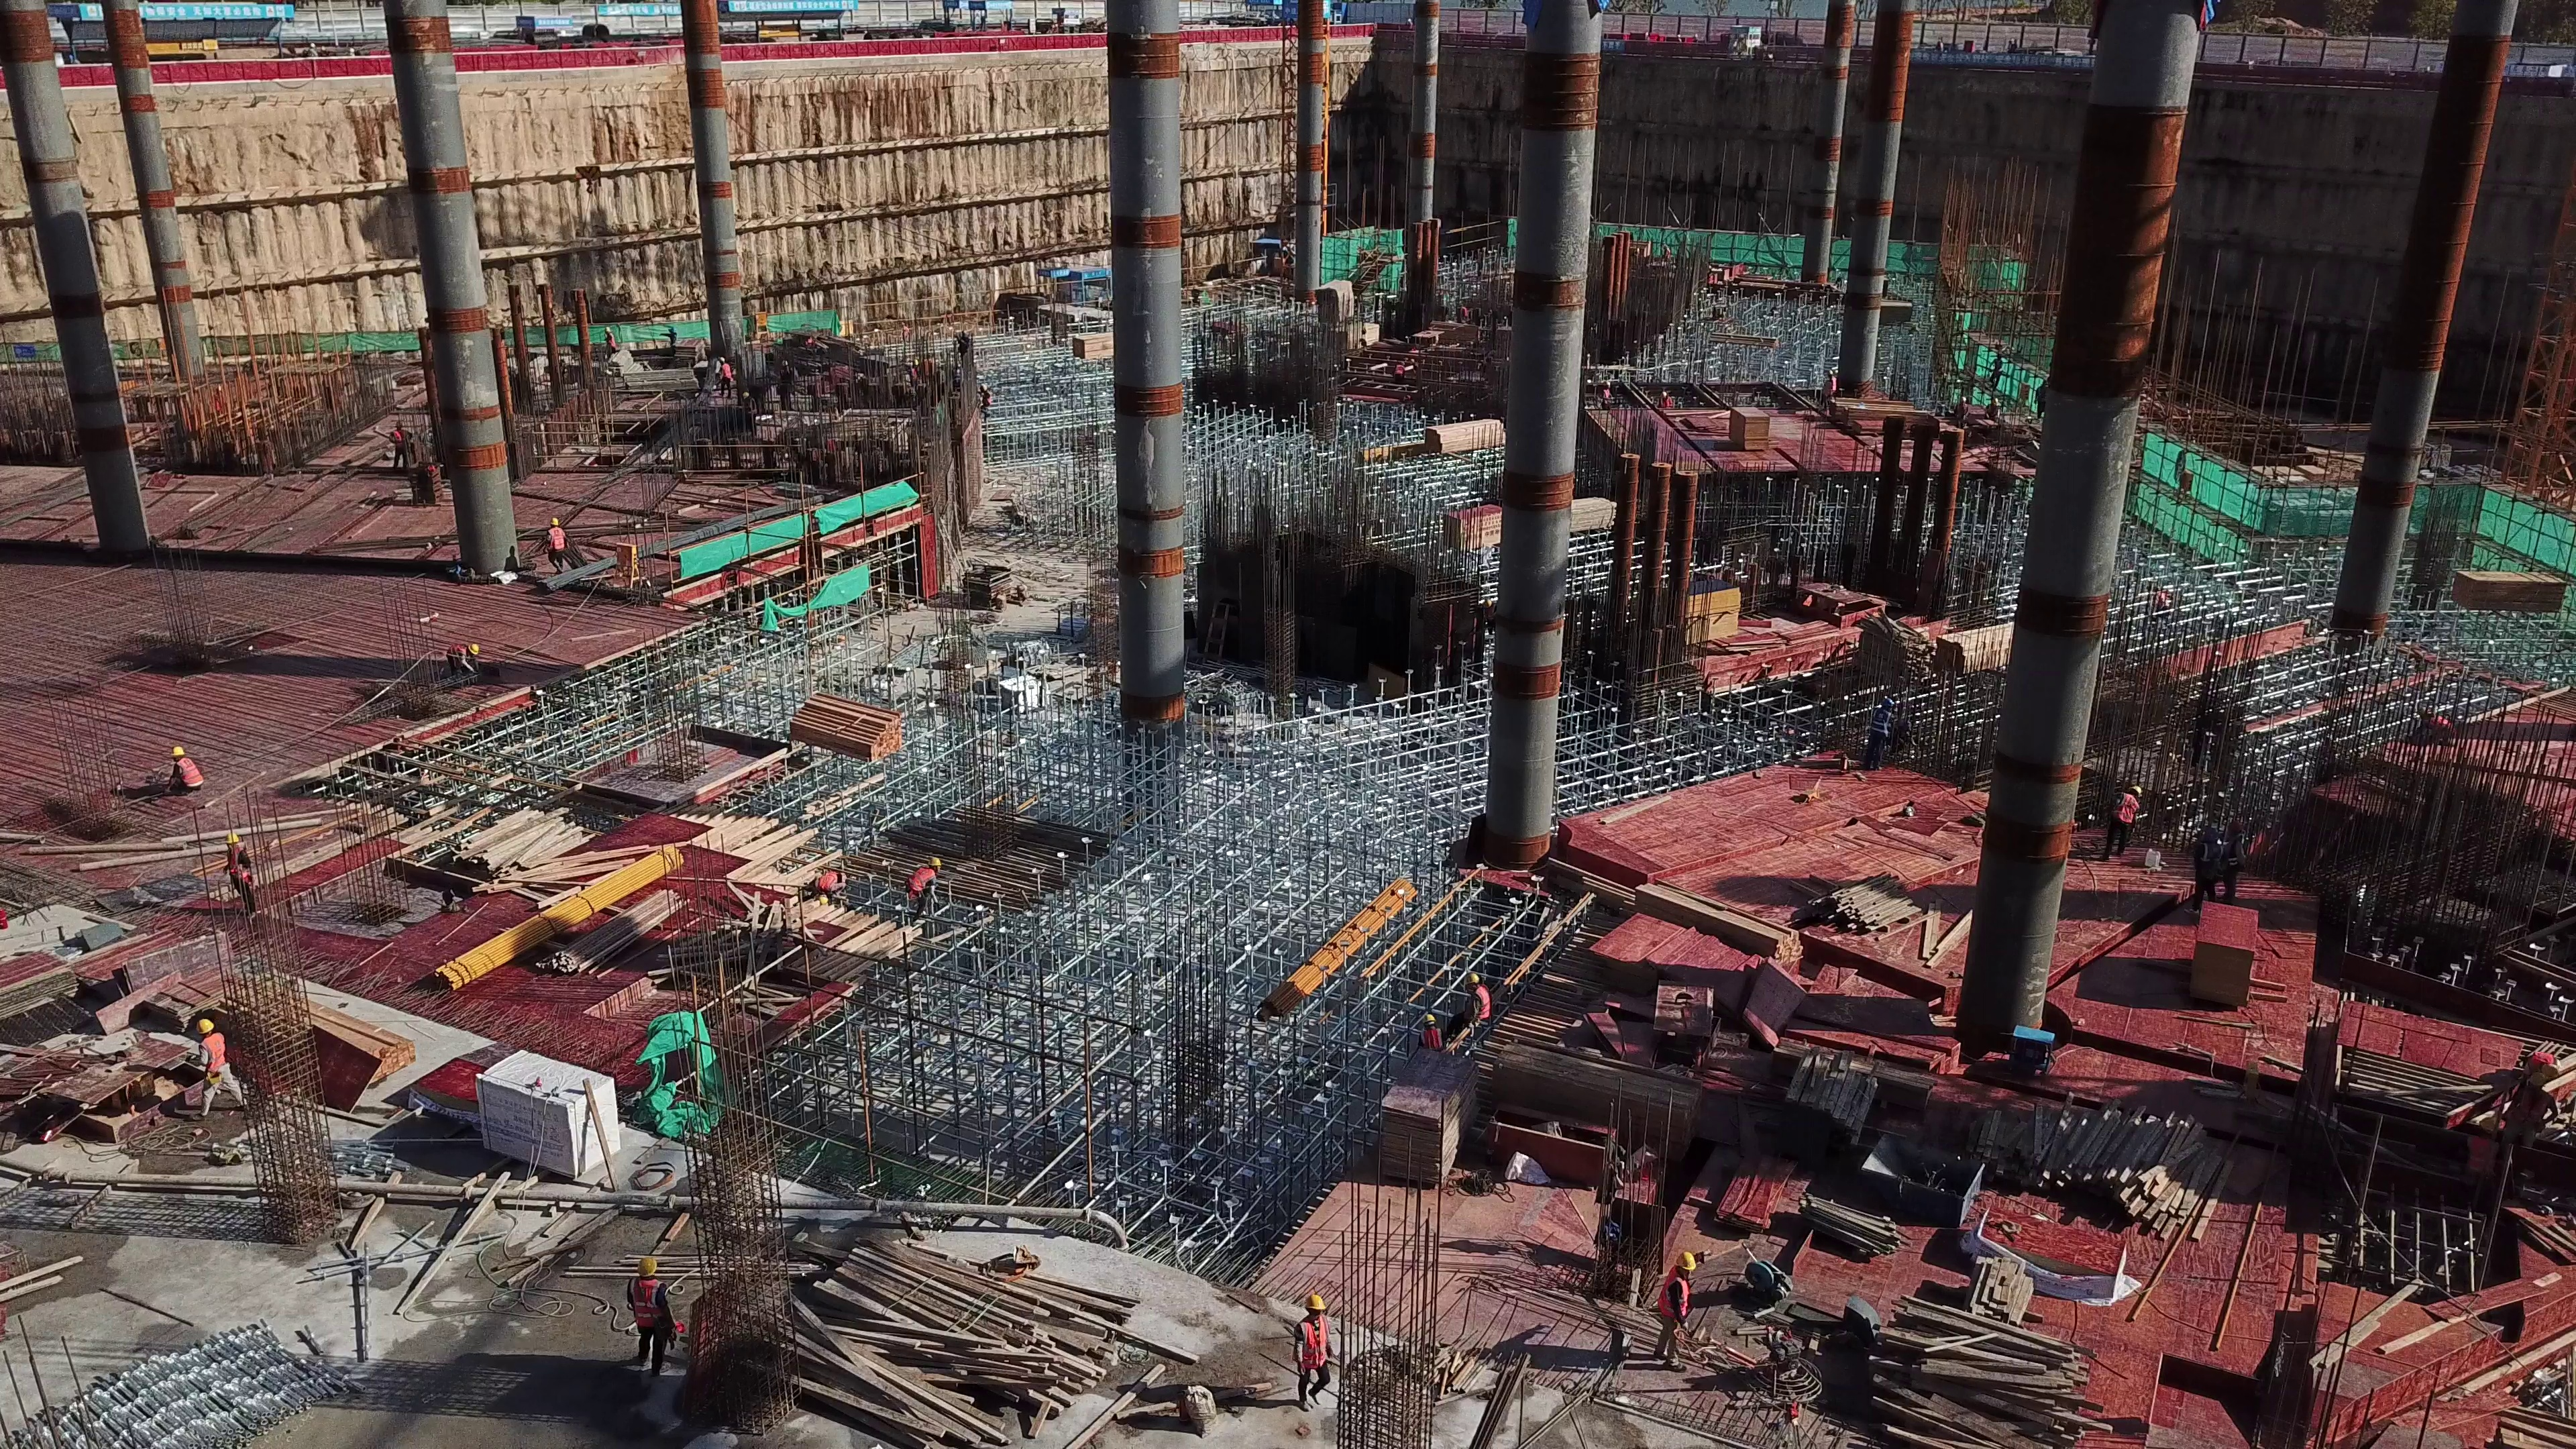board: (1509, 1026, 1699, 1145), (1604, 909, 1748, 1009), (1381, 1053, 1476, 1183), (103, 945, 230, 1030), (2192, 900, 2257, 1010), (1, 957, 91, 1004), (1441, 502, 1504, 551), (1724, 403, 1766, 449)
cutter: (1733, 1248, 1796, 1309)
ebox: (610, 539, 644, 592)
fence: (45, 50, 681, 95), (2202, 38, 2570, 95), (714, 28, 1122, 66), (1900, 21, 2090, 74), (1177, 19, 1293, 48), (1323, 9, 1402, 34)
helmet: (1306, 1291, 1332, 1318), (634, 1253, 658, 1279), (1671, 1250, 1696, 1269), (193, 1020, 217, 1034), (462, 641, 480, 658), (928, 854, 943, 869), (170, 745, 186, 758), (225, 833, 241, 845), (548, 517, 560, 529)
person: (623, 1252, 680, 1378), (2496, 1071, 2557, 1177), (1279, 1300, 1334, 1412), (193, 1022, 241, 1114), (215, 835, 266, 919), (1653, 1252, 1689, 1362), (162, 748, 213, 803), (2182, 820, 2214, 908), (2105, 785, 2133, 877), (1452, 969, 1494, 1034), (906, 852, 945, 917), (2218, 826, 2246, 912), (1865, 700, 1896, 764), (539, 516, 574, 576), (387, 421, 412, 478), (449, 640, 479, 684), (1419, 1019, 1448, 1059), (816, 868, 845, 902)
scaffold: (19, 1318, 350, 1449)
slogan: (80, 1, 290, 36), (716, 1, 861, 16), (513, 13, 574, 30), (601, 4, 687, 14)
vest: (1649, 1269, 1692, 1325), (631, 1281, 670, 1340), (1295, 1316, 1334, 1373), (201, 1035, 229, 1072), (908, 868, 934, 906), (1470, 984, 1494, 1025), (178, 759, 205, 792), (2114, 792, 2137, 823), (1420, 1028, 1447, 1052), (818, 871, 837, 899), (548, 531, 564, 556)
wood: (800, 1250, 1128, 1434), (1866, 1300, 2064, 1449), (2015, 1103, 2212, 1218), (1827, 871, 1955, 953), (424, 810, 580, 877), (1788, 1060, 1886, 1153), (796, 691, 901, 763)
